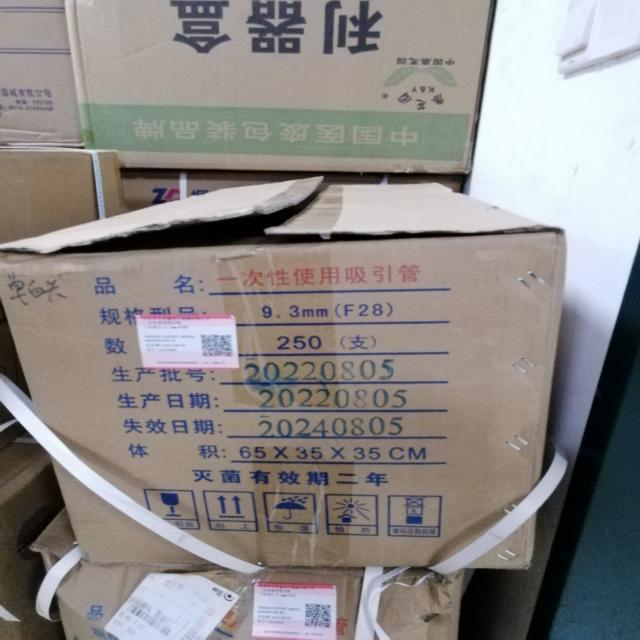box: (1, 176, 566, 574), (61, 0, 495, 177), (37, 497, 459, 640), (0, 435, 80, 640), (0, 140, 134, 259), (0, 0, 82, 144)
